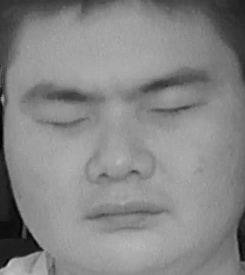blink: (34, 106, 87, 139), (148, 95, 198, 128)
mouth: (81, 193, 171, 244)
